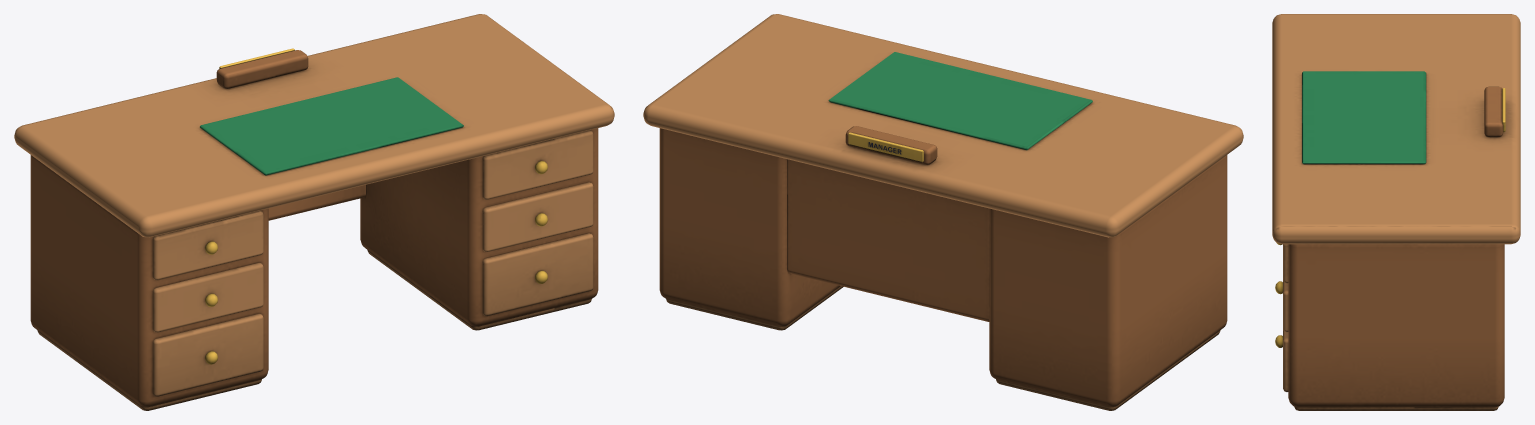
Rendered from manager_desk.glb.
3 renders of one model, left to right at view 1: azimuth 30°, elevation 25°; view 2: azimuth 150°, elevation 25°; view 3: azimuth 270°, elevation 25°, orthographic. The views are drawn at different scales.
Visible parts, largest first — view 1: manager_desk; view 2: manager_desk; view 3: manager_desk.
Boxes of the visible parts, box(x1,y1,x2,y2) form: manager_desk: box(14, 14, 614, 410); manager_desk: box(643, 14, 1243, 410); manager_desk: box(1272, 14, 1520, 410).
Bounding box in the file's own units: 1.9 × 0.8405 × 0.92.
Materials: 5 (5 with a texture image).
